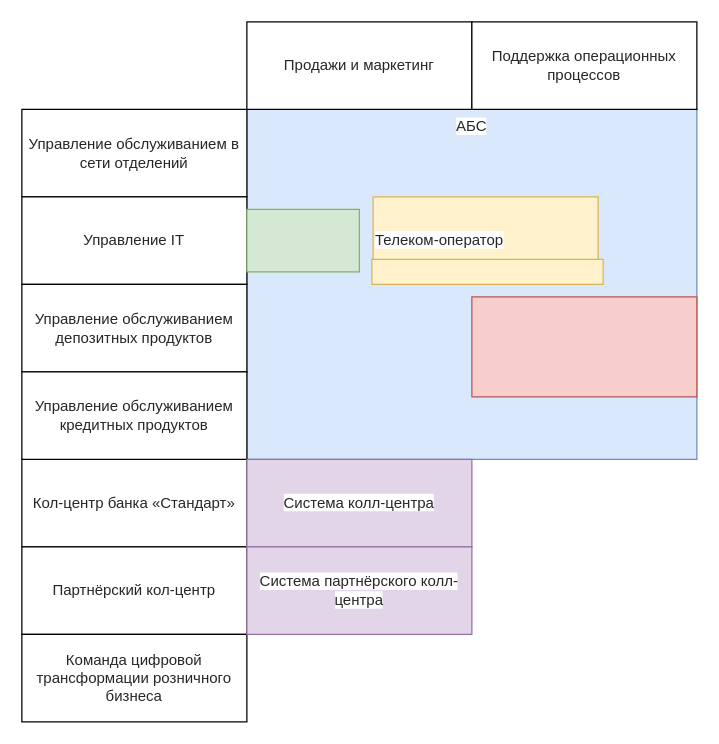
The diagram is 719 pixels wide and 744 high, and some of its shapes have lost their labels. The centre of each missing label's shape, as x and y in pixels:
"Интернет-банк" goes at (584,346).
"Сайт" goes at (302,240).
"СМС-шлюз телеком-оператора" goes at (487,271).
